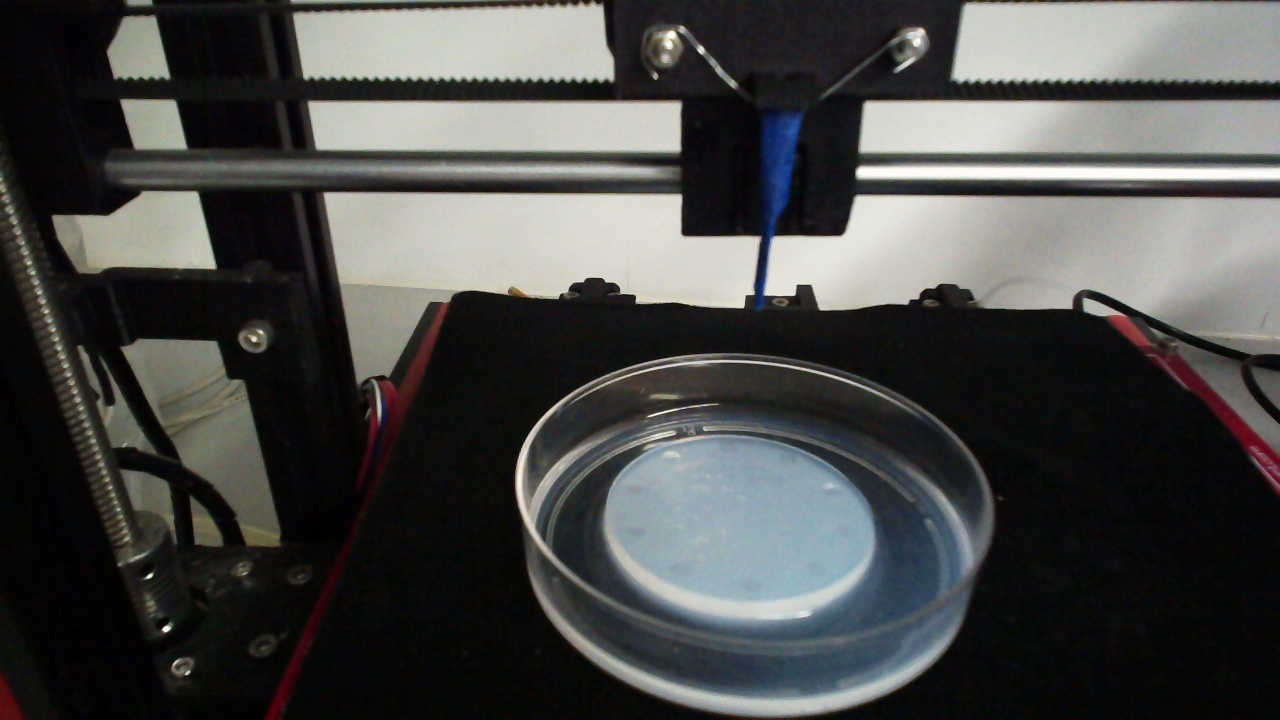groove: (801, 558, 827, 580), (738, 575, 764, 595), (667, 558, 691, 577), (623, 521, 646, 540), (834, 523, 858, 539), (661, 449, 682, 466), (775, 451, 797, 467), (821, 482, 843, 497), (715, 440, 739, 453), (624, 479, 644, 494)
needle: (753, 111, 803, 313)
